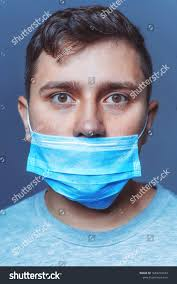mask_weared_incorrect: (23, 77, 150, 196)
